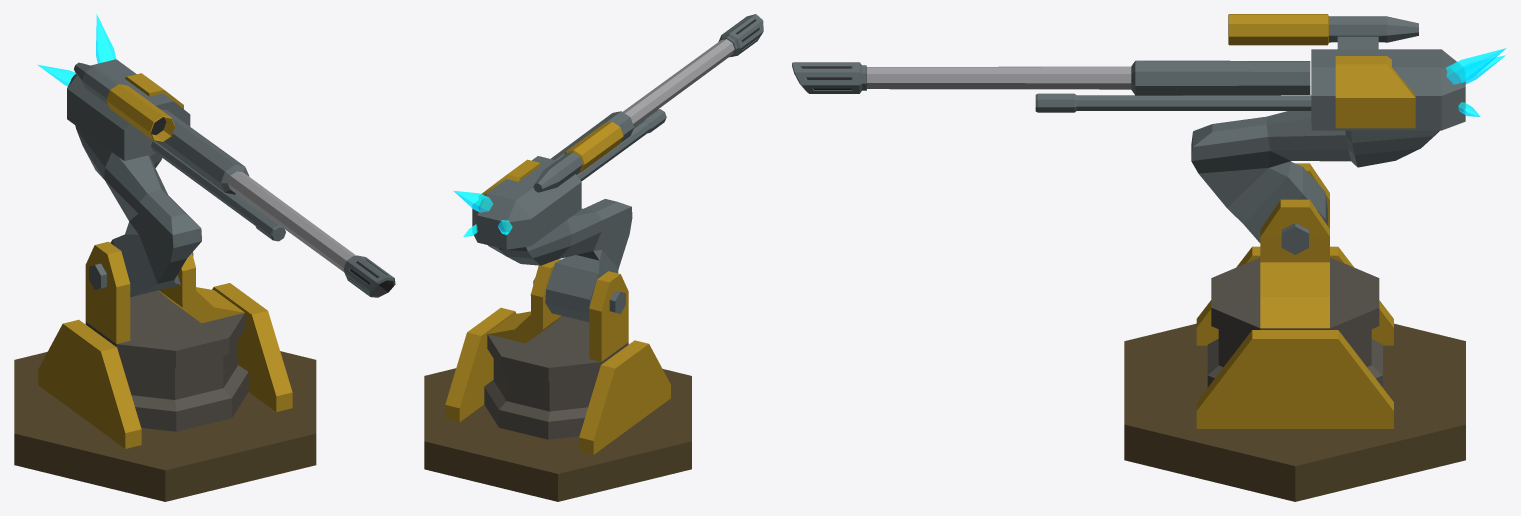
File: SniperTurret001.fbx
3 views of the same model, side by side, from view 1: azimuth 30°, elevation 25°; view 2: azimuth 150°, elevation 25°; view 3: azimuth 270°, elevation 25° (orthographic). The views are drawn at different scales.
Parts seen in each view (by area): view 1: Sniper_Base, Sniper_Barrel; view 2: Sniper_Base, Sniper_Barrel; view 3: Sniper_Base, Sniper_Barrel.
Part boxes in pixels (x1,y1,x2,y2): Sniper_Base: (14,241,316,501); Sniper_Barrel: (37,14,395,297); Sniper_Base: (424,259,691,501); Sniper_Barrel: (453,14,763,322); Sniper_Base: (1124,163,1465,501); Sniper_Barrel: (792,14,1506,242).
Bounding box in the file's own units: 200 × 216 × 362.
